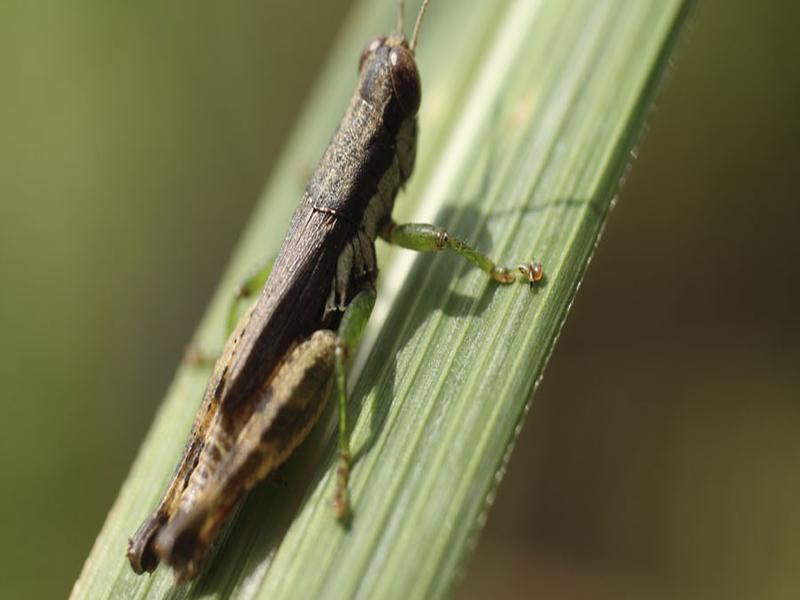Grasshopper: (121, 32, 479, 587)
